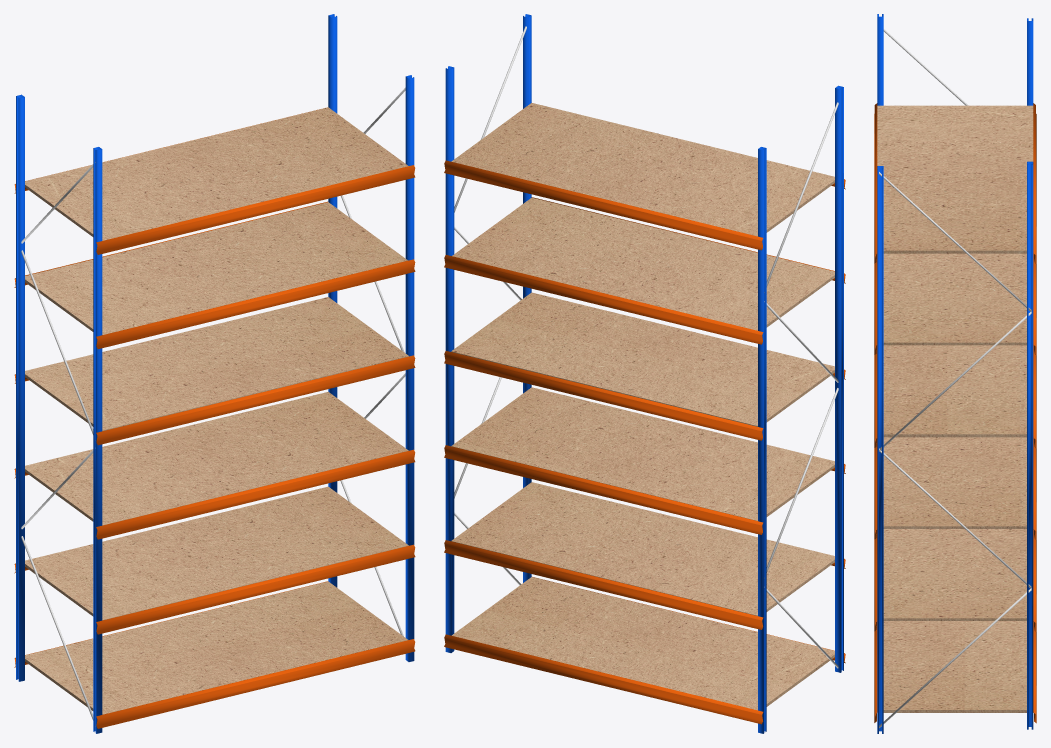
Rendered from rack to scale 1.fbx.
3 views of the same model, side by side, from view 1: azimuth 30°, elevation 25°; view 2: azimuth 150°, elevation 25°; view 3: azimuth 270°, elevation 25° (orthographic). The views are drawn at different scales.
Parts seen in each view (by area): view 1: Cube.001, Cube.002, Cube, Cube.007; view 2: Cube.001, Cube.002, Cube, Cube.007; view 3: Cube.001, Cube, Cube.002, Cube.007.
Part boxes in pixels (x1=…): Cube.001: x1=25, y1=107, x2=408, y2=714; Cube.002: x1=14, y1=109, x2=415, y2=728; Cube: x1=16, y1=14, x2=414, y2=733; Cube.007: x1=21, y1=87, x2=405, y2=726; Cube.001: x1=451, y1=103, x2=834, y2=710; Cube.002: x1=444, y1=160, x2=845, y2=724; Cube: x1=445, y1=14, x2=843, y2=733; Cube.007: x1=454, y1=26, x2=838, y2=668; Cube.001: x1=877, y1=105, x2=1033, y2=712; Cube: x1=877, y1=14, x2=1033, y2=733; Cube.002: x1=874, y1=103, x2=1036, y2=723; Cube.007: x1=879, y1=29, x2=1031, y2=727.
Size of the model in its own units: 2.28 by 4.03 by 1.04.
4 materials, 1 textured.
